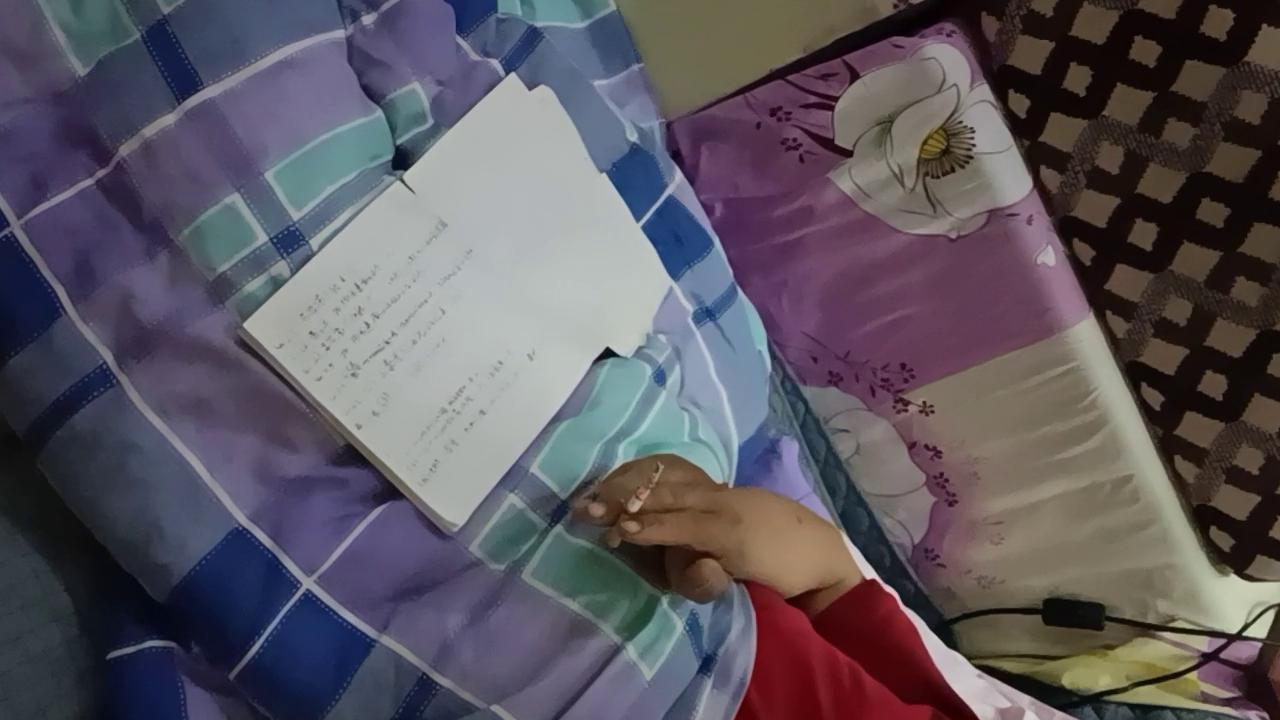smoke: (604, 462, 666, 549)
